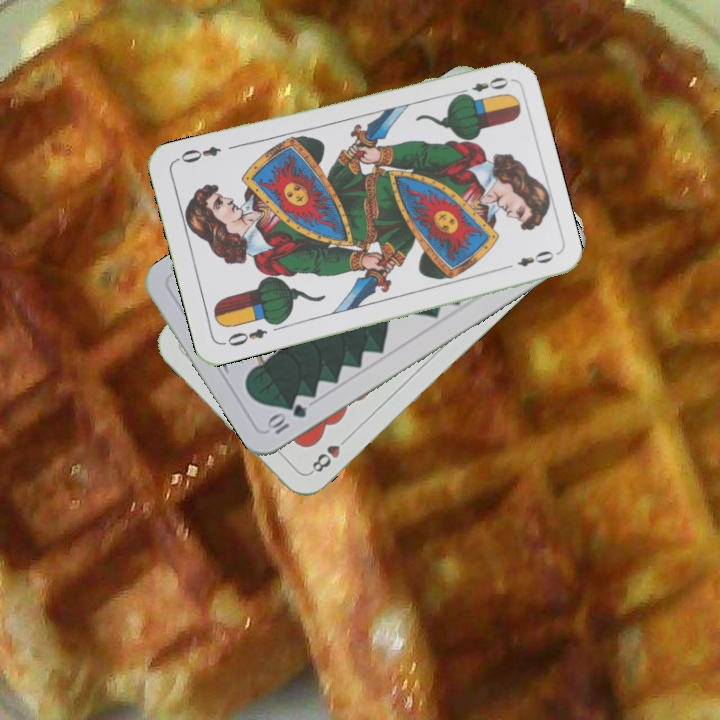EO: (453, 73, 511, 99), (219, 324, 270, 349)
G10: (263, 400, 310, 437)
H8: (306, 431, 353, 477)
